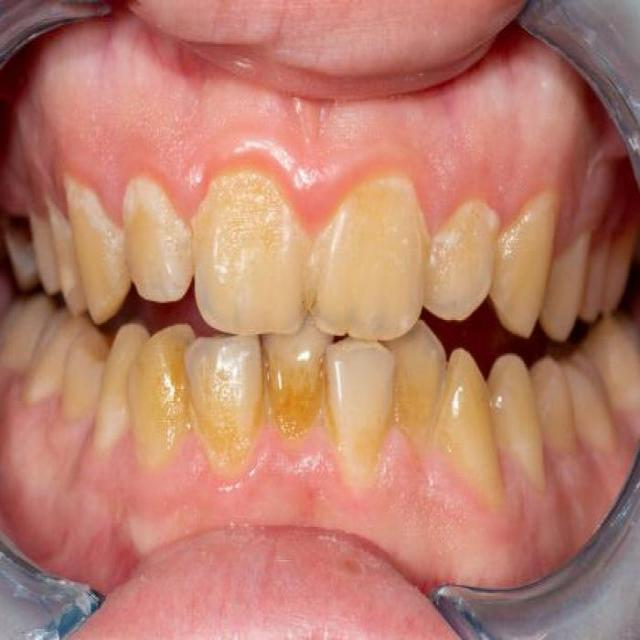CALCULUS: (148, 357, 189, 415), (282, 364, 321, 421), (400, 383, 439, 439)
